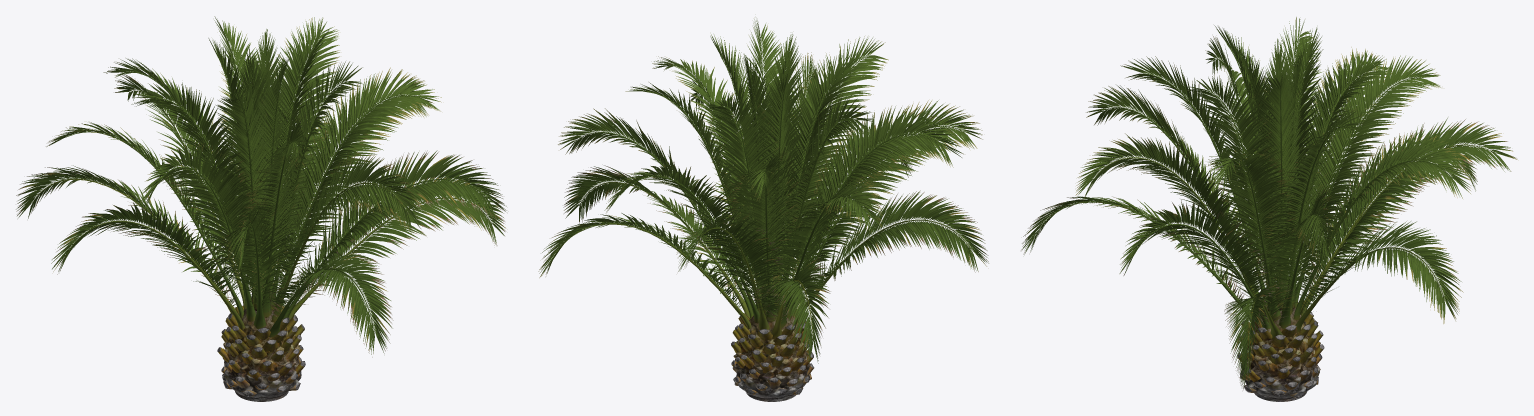
The model's file is palmier-canaries-grand.glb.
3 views of the same model, side by side, from view 1: azimuth 30°, elevation 25°; view 2: azimuth 150°, elevation 25°; view 3: azimuth 270°, elevation 25° (orthographic). The views are drawn at different scales.
Parts seen in each view (by area): view 1: Phoenix_canariensis_HD_Phoenix leaflet young_0, Phoenix_canariensis_HD_Phoenix leaflet average_0, Phoenix_canariensis_HD_Phoenix leaf stk_0, Phoenix_canariensis_HD_Phoenix crownshaft RT_0, Phoenix_canariensis_HD_Phoenix leaflet average 02_0, Phoenix_canariensis_HD_Phoenix leaf stk 04_0, Phoenix_canariensis_HD_Phoenix dead stk 07_0, Phoenix_canariensis_HD_Phoenix lf cut 04_0, Phoenix_canariensis_HD_Phoenix dead stk 06_0; view 2: Phoenix_canariensis_HD_Phoenix leaflet young_0, Phoenix_canariensis_HD_Phoenix leaflet average_0, Phoenix_canariensis_HD_Phoenix leaf stk_0, Phoenix_canariensis_HD_Phoenix crownshaft RT_0, Phoenix_canariensis_HD_Phoenix leaf stk 04_0, Phoenix_canariensis_HD_Phoenix leaflet average 02_0, Phoenix_canariensis_HD_Phoenix dead stk 07_0, Phoenix_canariensis_HD_Phoenix lf cut 04_0, Phoenix_canariensis_HD_Phoenix dead stk 06_0, Phoenix_canariensis_HD_Phoenix dead stk 05_0; view 3: Phoenix_canariensis_HD_Phoenix leaflet young_0, Phoenix_canariensis_HD_Phoenix leaflet average_0, Phoenix_canariensis_HD_Phoenix leaf stk_0, Phoenix_canariensis_HD_Phoenix crownshaft RT_0, Phoenix_canariensis_HD_Phoenix leaflet average 02_0, Phoenix_canariensis_HD_Phoenix leaf stk 04_0, Phoenix_canariensis_HD_Phoenix dead stk 07_0, Phoenix_canariensis_HD_Phoenix dead stk 06_0.
Boxes of the visible parts, x1,y1,x2,y2 form: Phoenix_canariensis_HD_Phoenix leaflet young_0: [46, 16, 441, 292]; Phoenix_canariensis_HD_Phoenix leaflet average_0: [16, 73, 506, 357]; Phoenix_canariensis_HD_Phoenix leaf stk_0: [67, 50, 487, 337]; Phoenix_canariensis_HD_Phoenix crownshaft RT_0: [222, 308, 301, 401]; Phoenix_canariensis_HD_Phoenix leaflet average 02_0: [18, 76, 505, 344]; Phoenix_canariensis_HD_Phoenix leaf stk 04_0: [67, 90, 491, 329]; Phoenix_canariensis_HD_Phoenix dead stk 07_0: [221, 305, 304, 361]; Phoenix_canariensis_HD_Phoenix lf cut 04_0: [217, 313, 305, 389]; Phoenix_canariensis_HD_Phoenix dead stk 06_0: [218, 345, 304, 380]; Phoenix_canariensis_HD_Phoenix leaflet young_0: [538, 19, 982, 290]; Phoenix_canariensis_HD_Phoenix leaflet average_0: [539, 73, 988, 363]; Phoenix_canariensis_HD_Phoenix leaf stk_0: [576, 43, 964, 327]; Phoenix_canariensis_HD_Phoenix crownshaft RT_0: [733, 309, 809, 401]; Phoenix_canariensis_HD_Phoenix leaf stk 04_0: [552, 76, 972, 330]; Phoenix_canariensis_HD_Phoenix leaflet average 02_0: [564, 102, 986, 352]; Phoenix_canariensis_HD_Phoenix dead stk 07_0: [731, 309, 808, 366]; Phoenix_canariensis_HD_Phoenix lf cut 04_0: [731, 320, 812, 394]; Phoenix_canariensis_HD_Phoenix dead stk 06_0: [734, 342, 812, 376]; Phoenix_canariensis_HD_Phoenix dead stk 05_0: [732, 361, 813, 394]; Phoenix_canariensis_HD_Phoenix leaflet young_0: [1075, 17, 1471, 323]; Phoenix_canariensis_HD_Phoenix leaflet average_0: [1021, 69, 1516, 389]; Phoenix_canariensis_HD_Phoenix leaf stk_0: [1036, 35, 1452, 329]; Phoenix_canariensis_HD_Phoenix crownshaft RT_0: [1241, 307, 1319, 401]; Phoenix_canariensis_HD_Phoenix leaflet average 02_0: [1023, 78, 1517, 382]; Phoenix_canariensis_HD_Phoenix leaf stk 04_0: [1093, 144, 1495, 360]; Phoenix_canariensis_HD_Phoenix dead stk 07_0: [1240, 303, 1322, 364]; Phoenix_canariensis_HD_Phoenix dead stk 06_0: [1238, 342, 1323, 382].
Size of the model in its own units: 5.04 by 3.78 by 4.88.
Materials: 15 (15 with a texture image).
